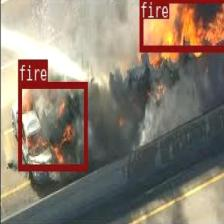fire: (18, 81, 86, 170), (139, 0, 224, 51)
